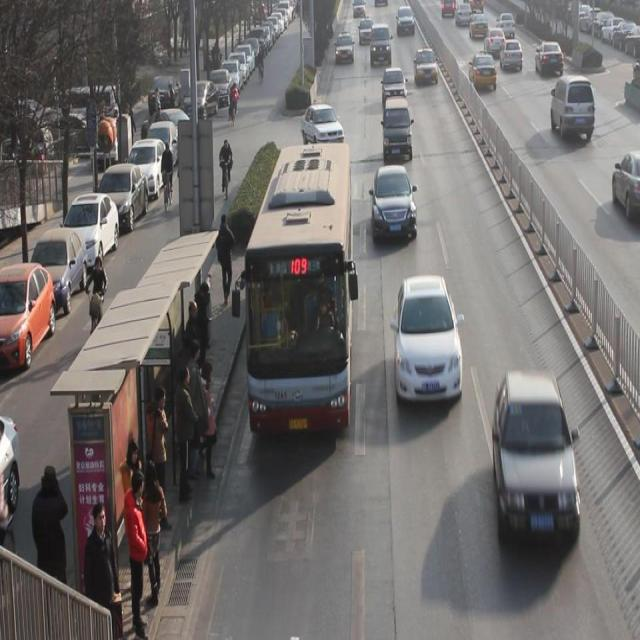car: (493, 372, 581, 545), (396, 274, 464, 402), (372, 166, 418, 242), (301, 105, 345, 149), (468, 51, 497, 91), (535, 39, 565, 77), (413, 47, 439, 86), (382, 67, 408, 99), (500, 37, 523, 72), (484, 26, 506, 56), (336, 30, 354, 65), (468, 10, 488, 40), (496, 12, 516, 38), (358, 16, 374, 46)
truck: (550, 73, 595, 142), (384, 96, 412, 162), (370, 23, 392, 66)
van: (245, 147, 351, 428)
